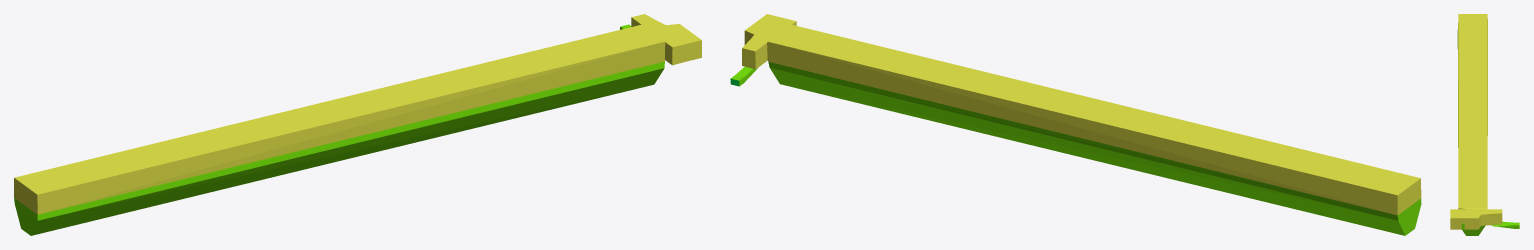
File: ravine_BSP_000.fbx
3 renders of one model, left to right at view 1: azimuth 30°, elevation 25°; view 2: azimuth 150°, elevation 25°; view 3: azimuth 270°, elevation 25°, orthographic. The views are drawn at different scales.
Parts seen in each view (by area): view 1: Cube; view 2: Cube; view 3: Cube.
Part boxes in pixels (left/top/right/bottom): Cube: left=14, top=14, right=701, bottom=235; Cube: left=730, top=14, right=1421, bottom=235; Cube: left=1450, top=14, right=1519, bottom=235.
Size of the model in its own units: 93511 by 6306 by 13463.
